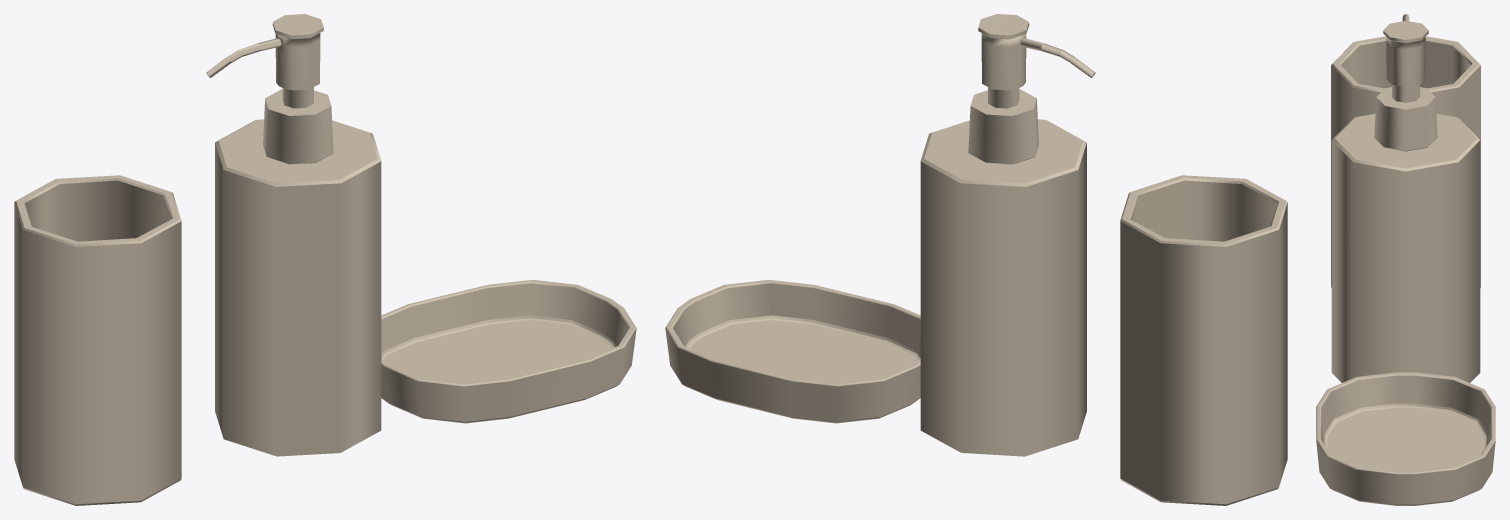
The model's file is soap_dispenser_24_L.fbx.
The picture shows the model from 3 angles, left to right: view 1: azimuth 30°, elevation 25°; view 2: azimuth 150°, elevation 25°; view 3: azimuth 270°, elevation 25°; orthographic projection. The views are drawn at different scales.
Parts seen in each view (by area): view 1: soap_dispenser_24_L; view 2: soap_dispenser_24_L; view 3: soap_dispenser_24_L.
Boxes of the visible parts, x1,y1,x2,y2 form: soap_dispenser_24_L: (14,14,636,505); soap_dispenser_24_L: (665,14,1287,505); soap_dispenser_24_L: (1316,14,1495,505).
Bounding box in the file's own units: 6.21 × 3.97 × 1.88.
